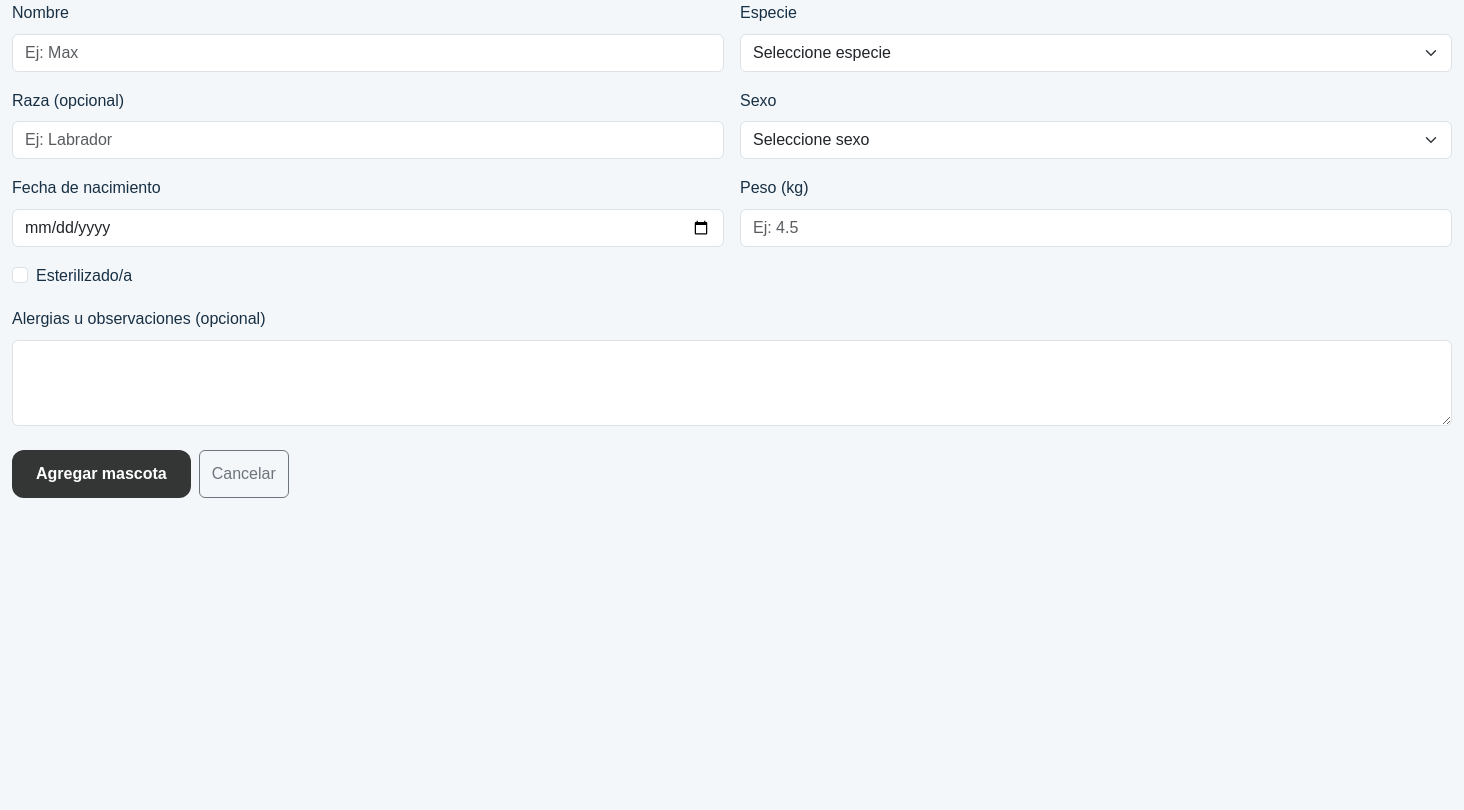
Test: FormularioMascota › muestra un error por cada campo obligatorio vacío y no guarda
The width and height of the screenshot is (1464, 810).
Click the button "Agregar mascota": (101, 474) x1=12 y1=450 x2=191 y2=498
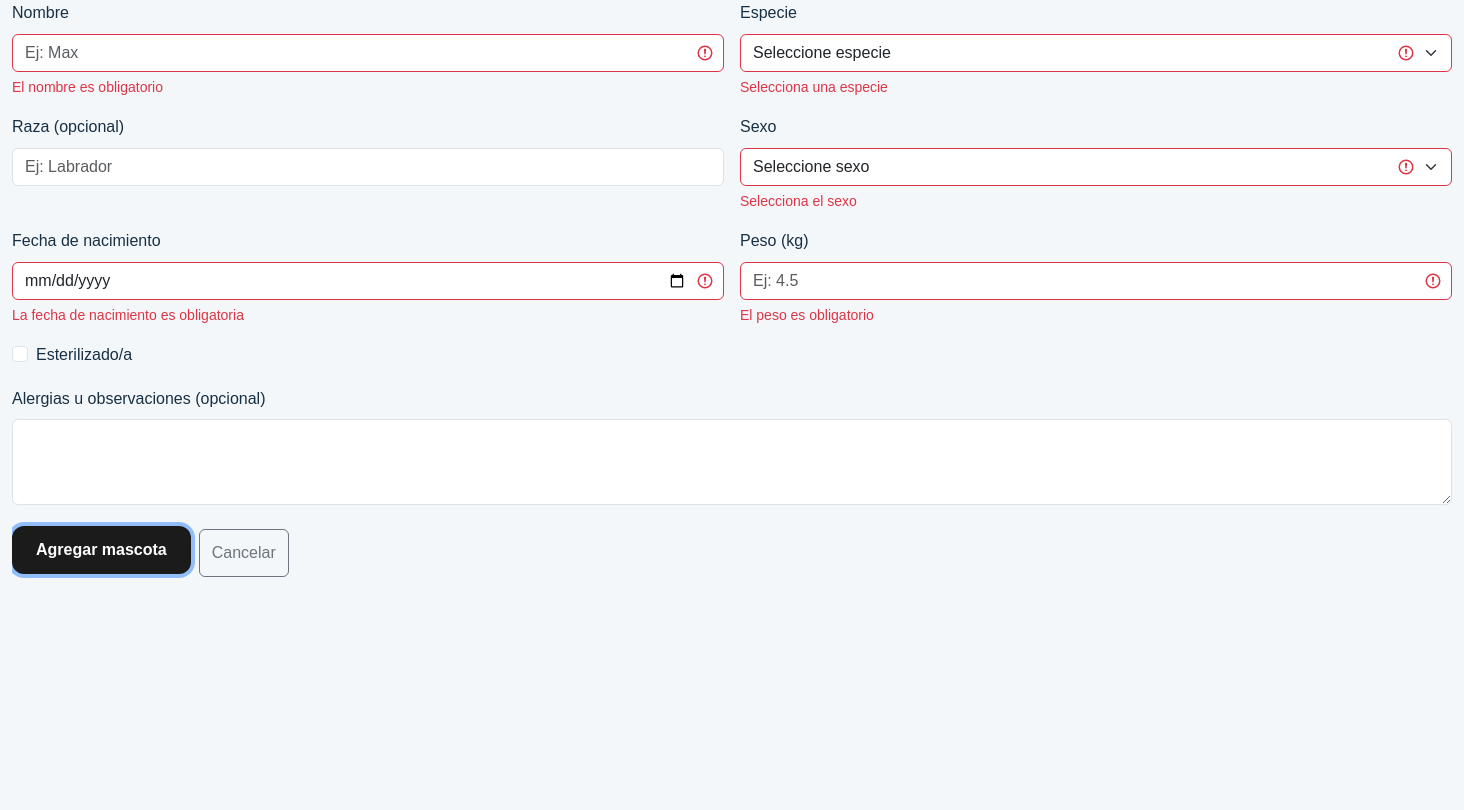
Check: the text "El nombre es obligatorio" is shown, box x1=12 y1=79 x2=163 y2=95
Check: the text "Selecciona una especie" is shown, box x1=740 y1=79 x2=888 y2=95
Check: the text "Selecciona el sexo" is shown, box x1=740 y1=193 x2=857 y2=209
